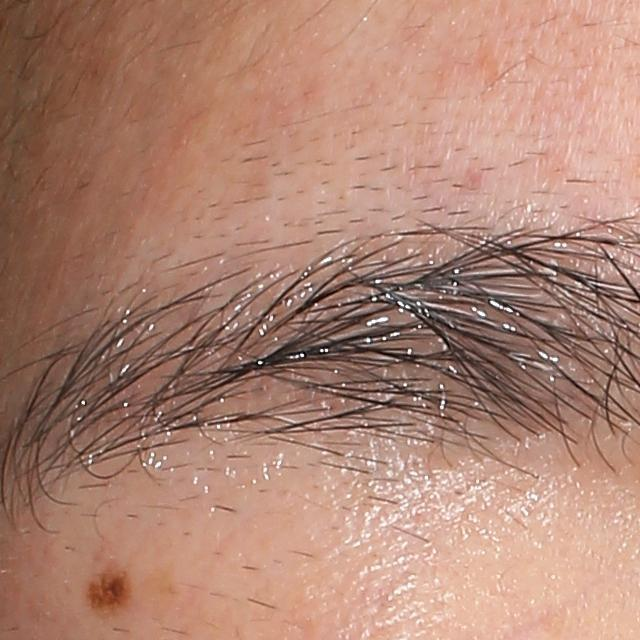nevus: (82, 559, 136, 619)
